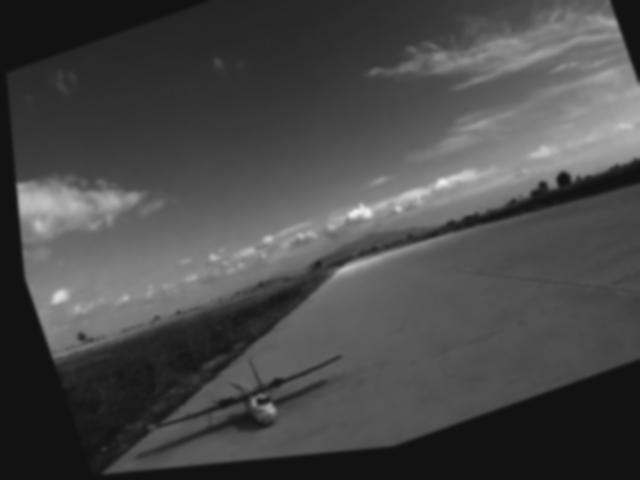hedef: (123, 329, 357, 470)
